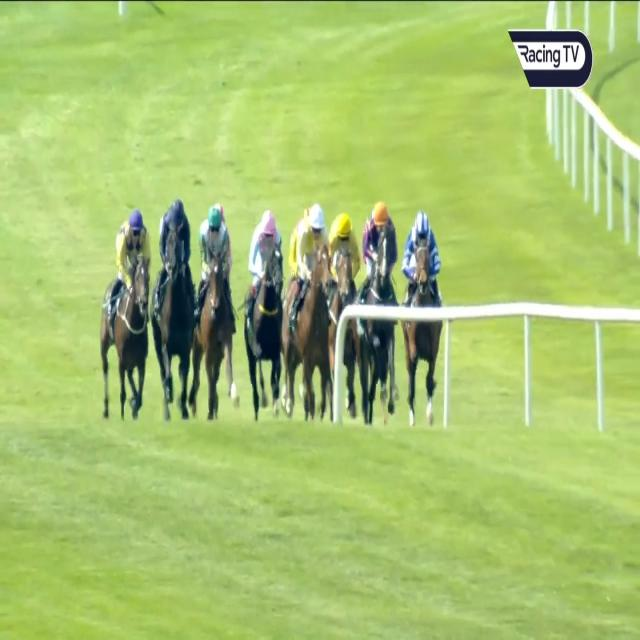horses-racing: (96, 205, 155, 413), (358, 194, 402, 416), (192, 195, 232, 429), (404, 203, 448, 412), (285, 195, 324, 426), (157, 194, 195, 429), (320, 198, 359, 422), (240, 203, 280, 413), (284, 195, 314, 293), (214, 190, 238, 282)
